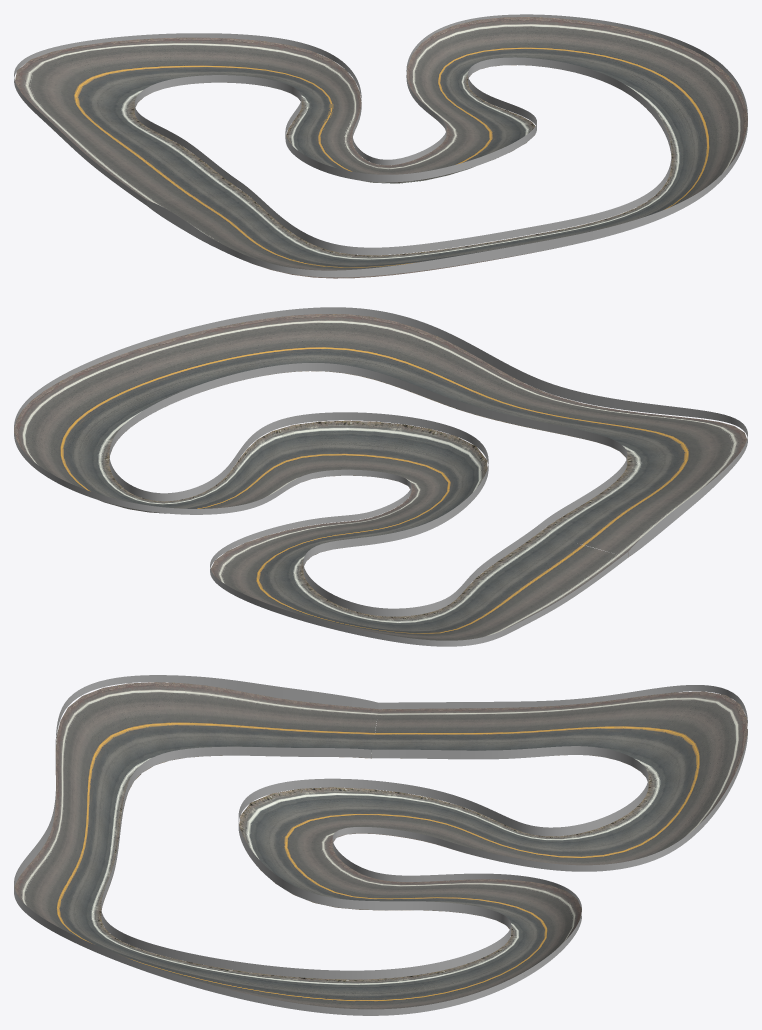
Rendered from long_road.fbx.
3 renders of one model, top to bottom at view 1: azimuth 30°, elevation 25°; view 2: azimuth 150°, elevation 25°; view 3: azimuth 270°, elevation 25°, orthographic. The views are drawn at different scales.
Parts seen in each view (by area): view 1: nurbsToPoly1, nurbsToPoly2, nurbsToPoly3, nurbsToPoly4, nurbsToPoly5; view 2: nurbsToPoly1, nurbsToPoly3, nurbsToPoly2, nurbsToPoly5, nurbsToPoly4; view 3: nurbsToPoly1, nurbsToPoly2, nurbsToPoly3, nurbsToPoly4, nurbsToPoly5.
Boxes of the visible parts, box(x1,y1,x2,y2) form: nurbsToPoly1: box(15, 17, 747, 278); nurbsToPoly2: box(134, 57, 671, 255); nurbsToPoly3: box(14, 14, 747, 277); nurbsToPoly4: box(135, 57, 671, 255); nurbsToPoly5: box(14, 14, 747, 277); nurbsToPoly1: box(14, 314, 746, 640); nurbsToPoly3: box(14, 307, 747, 646); nurbsToPoly2: box(109, 363, 627, 616); nurbsToPoly5: box(14, 307, 747, 646); nurbsToPoly4: box(109, 363, 627, 616); nurbsToPoly1: box(14, 682, 747, 1009); nurbsToPoly2: box(101, 746, 648, 979); nurbsToPoly3: box(14, 675, 747, 1015); nurbsToPoly4: box(101, 746, 648, 979); nurbsToPoly5: box(14, 675, 747, 1015).
Size of the model in its own units: 146 by 9.56 by 140.
